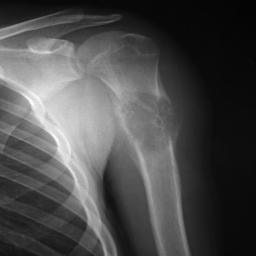cancer: (120, 93, 175, 153)
